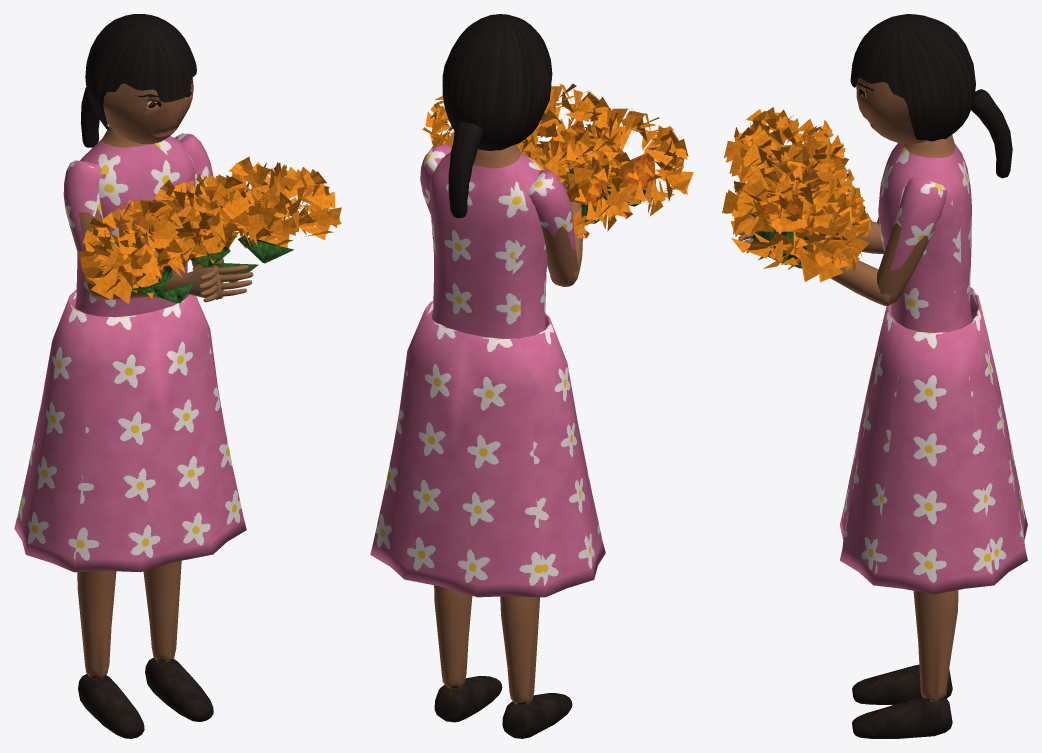
File: persona_nina_flores_medio.obj
3 views of the same model, side by side, from view 1: azimuth 30°, elevation 25°; view 2: azimuth 150°, elevation 25°; view 3: azimuth 270°, elevation 25° (orthographic).
Parts seen in each view (by area): view 1: persona_nina_flores, Flor_Cempasuchil.001, Flor_Cempasuchil.003, Flor_Cempasuchil.002, Flor_Cempasuchil.005, Flor_Cempasuchil.004; view 2: persona_nina_flores, Flor_Cempasuchil.001, Flor_Cempasuchil.002, Flor_Cempasuchil.004, Flor_Cempasuchil.003, Flor_Cempasuchil.005; view 3: persona_nina_flores, Flor_Cempasuchil.003, Flor_Cempasuchil.002, Flor_Cempasuchil.005, Flor_Cempasuchil.001.
Part boxes in pixels (x1=…): persona_nina_flores: x1=14, y1=14, x2=253, y2=738; Flor_Cempasuchil.001: x1=78, y1=199, x2=196, y2=304; Flor_Cempasuchil.003: x1=210, y1=156, x2=341, y2=263; Flor_Cempasuchil.002: x1=146, y1=174, x2=263, y2=267; Flor_Cempasuchil.005: x1=184, y1=185, x2=297, y2=282; Flor_Cempasuchil.004: x1=109, y1=210, x2=221, y2=303; persona_nina_flores: x1=370, y1=14, x2=605, y2=738; Flor_Cempasuchil.001: x1=563, y1=108, x2=693, y2=218; Flor_Cempasuchil.002: x1=518, y1=84, x2=622, y2=184; Flor_Cempasuchil.004: x1=535, y1=134, x2=640, y2=238; Flor_Cempasuchil.003: x1=422, y1=96, x2=557, y2=149; Flor_Cempasuchil.005: x1=516, y1=109, x2=566, y2=169; persona_nina_flores: x1=738, y1=14, x2=1027, y2=738; Flor_Cempasuchil.003: x1=722, y1=160, x2=855, y2=281; Flor_Cempasuchil.002: x1=729, y1=127, x2=849, y2=214; Flor_Cempasuchil.005: x1=749, y1=166, x2=872, y2=282; Flor_Cempasuchil.001: x1=724, y1=107, x2=848, y2=181.
Bounding box in the file's own units: 0.4251 × 1.15 × 0.4531.
13 materials, 13 textured.
